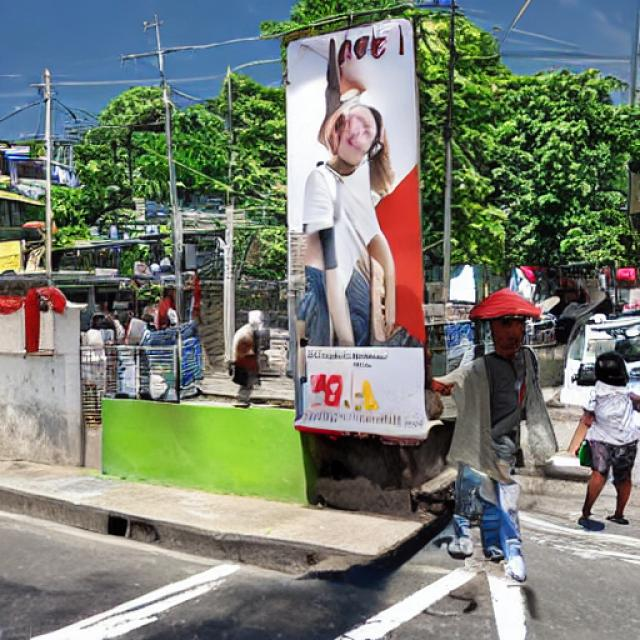Billboard: (286, 5, 427, 444)
